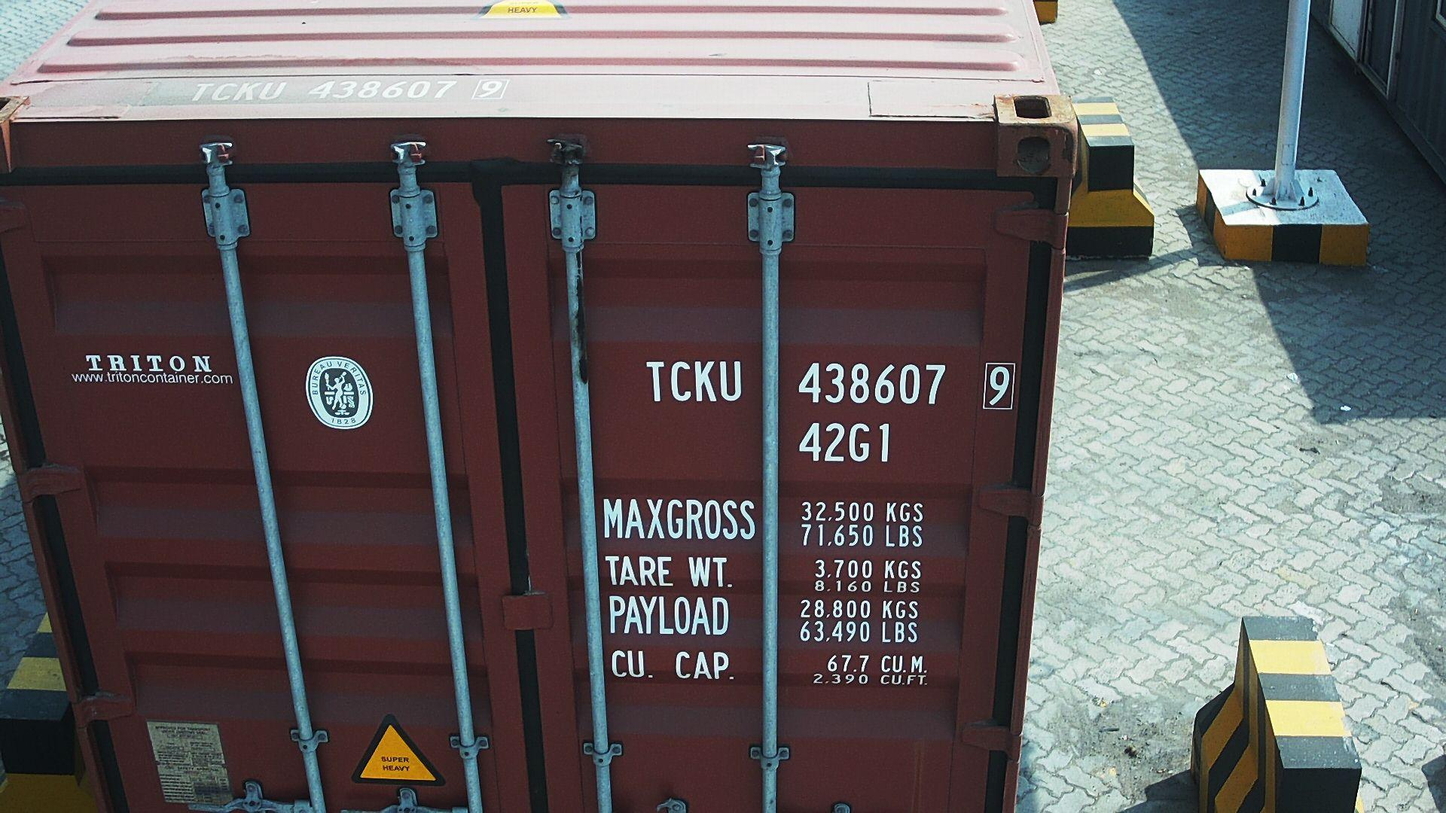container-numbers: (641, 355, 1021, 413), (182, 75, 514, 105), (796, 420, 895, 466)
